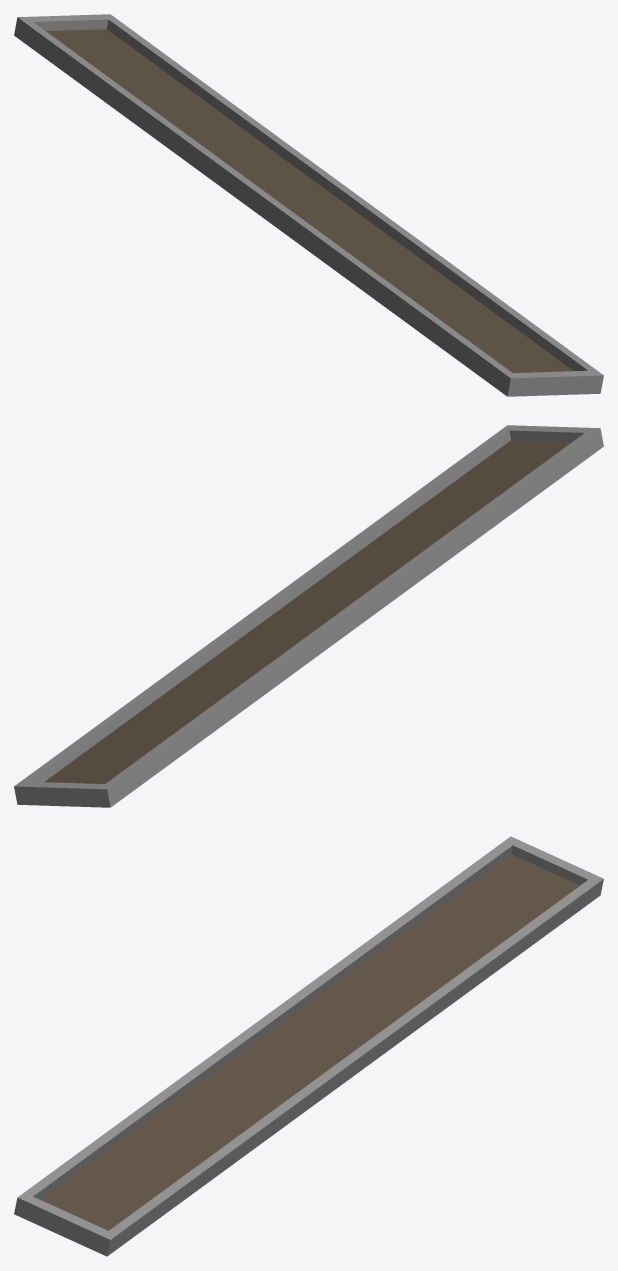
File: TextHolder.fbx
3 views of the same model, one above another, from view 1: azimuth 30°, elevation 25°; view 2: azimuth 150°, elevation 25°; view 3: azimuth 330°, elevation 25° (orthographic).
Visible parts, largest first — view 1: Cube.006; view 2: Cube.006; view 3: Cube.006.
Boxes of the visible parts, x1=… form: Cube.006: x1=14, y1=14, x2=603, y2=396; Cube.006: x1=14, y1=425, x2=603, y2=807; Cube.006: x1=14, y1=836, x2=603, y2=1256.
Size of the model in its own units: 14.22 by 5.25 by 126.
